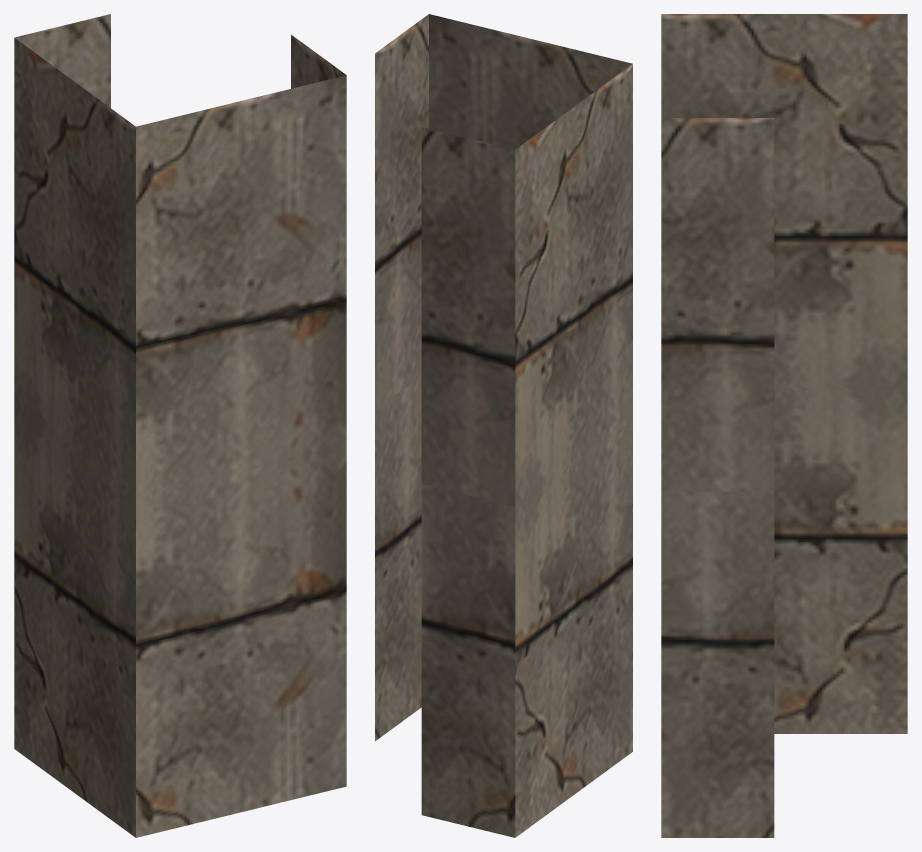
The model's file is column_concrete_4.fbx.
3 renders of one model, left to right at view 1: azimuth 30°, elevation 25°; view 2: azimuth 150°, elevation 25°; view 3: azimuth 270°, elevation 25°, orthographic. The views are drawn at different scales.
Visible parts, largest first — view 1: column_concrete_4; view 2: column_concrete_4; view 3: column_concrete_4.
Boxes of the visible parts, x1,y1,x2,y2 form: column_concrete_4: [14, 14, 346, 837]; column_concrete_4: [375, 14, 632, 837]; column_concrete_4: [661, 14, 907, 837].
Bounding box in the file's own units: 0.9483 × 3.06 × 0.9484.
